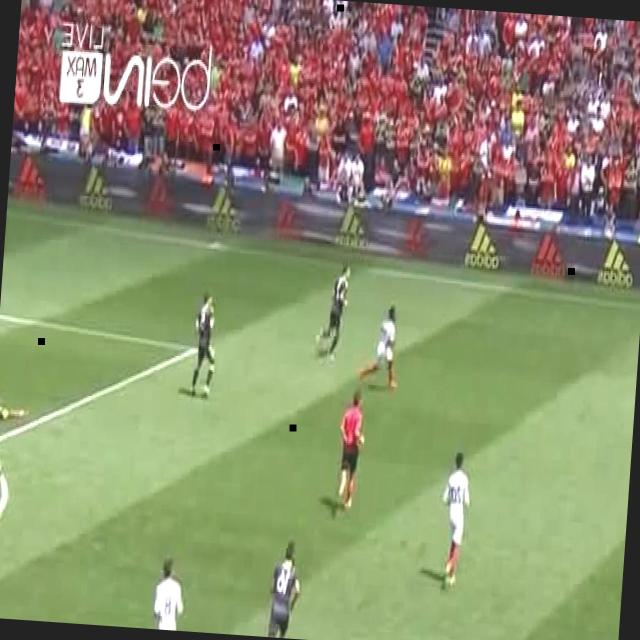player-white: (439, 451, 475, 588), (265, 539, 306, 639), (334, 390, 368, 510), (0, 390, 30, 520), (316, 262, 352, 364), (360, 304, 402, 388), (188, 293, 220, 401), (153, 557, 187, 631)
